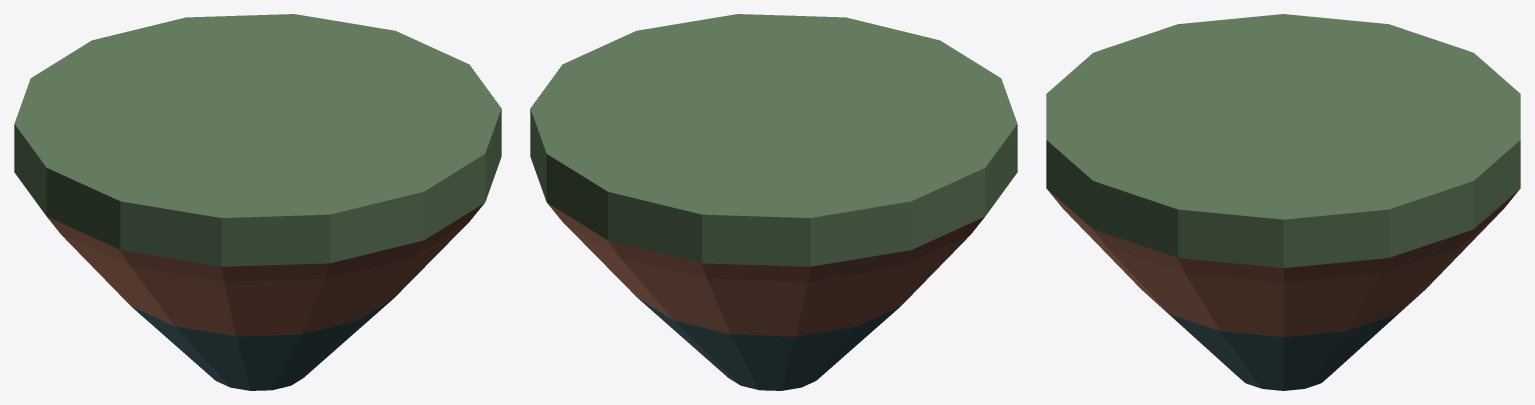
File: island_base_meadow.glb
3 views of the same model, side by side, from view 1: azimuth 30°, elevation 25°; view 2: azimuth 150°, elevation 25°; view 3: azimuth 270°, elevation 25° (orthographic).
Parts seen in each view (by area): view 1: island_base_meadow; view 2: island_base_meadow; view 3: island_base_meadow.
Part boxes in pixels (box(x1,y1,x2,y2)): island_base_meadow: box(14, 14, 501, 390); island_base_meadow: box(530, 14, 1017, 390); island_base_meadow: box(1046, 14, 1520, 390).
Size of the model in its own units: 2 by 1.15 by 1.95.
